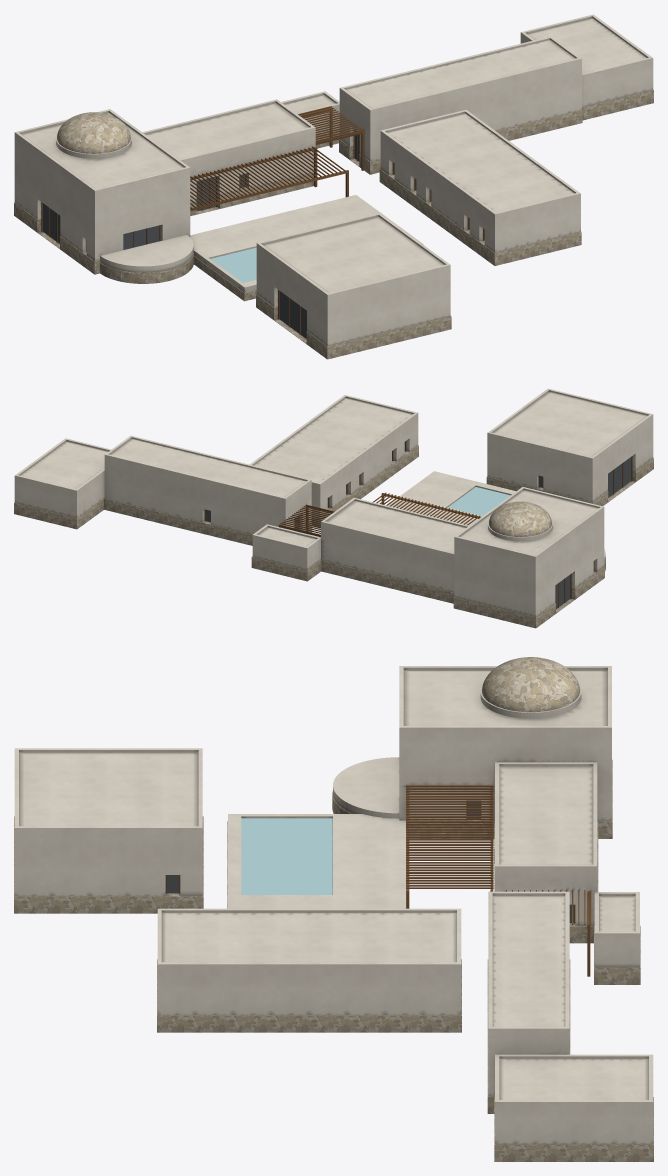
File: villa-S-hq-mobile.glb
3 views of the same model, one above another, from view 1: azimuth 30°, elevation 25°; view 2: azimuth 150°, elevation 25°; view 3: azimuth 270°, elevation 25° (orthographic). The views are drawn at different scales.
Visible parts, largest first — view 1: plaster, stone, wood, glass, water; view 2: plaster, stone, wood, glass, water; view 3: plaster, stone, wood, water.
Boxes of the visible parts, box(x1,y1,x2,y2) form: plaster: box(14, 14, 653, 346); stone: box(14, 90, 653, 359); wood: box(41, 106, 484, 334); glass: box(43, 130, 484, 338); water: box(210, 247, 256, 282); plaster: box(14, 388, 653, 617); stone: box(14, 445, 653, 628); wood: box(204, 441, 632, 607); glass: box(205, 442, 631, 608); water: box(448, 487, 510, 515); plaster: box(14, 666, 653, 1144); stone: box(14, 657, 653, 1161); wood: box(165, 785, 591, 976); water: box(241, 818, 332, 894).
Size of the model in its own units: 48.46 by 8.46 by 34.01.
Materials: 5 (3 with a texture image).
